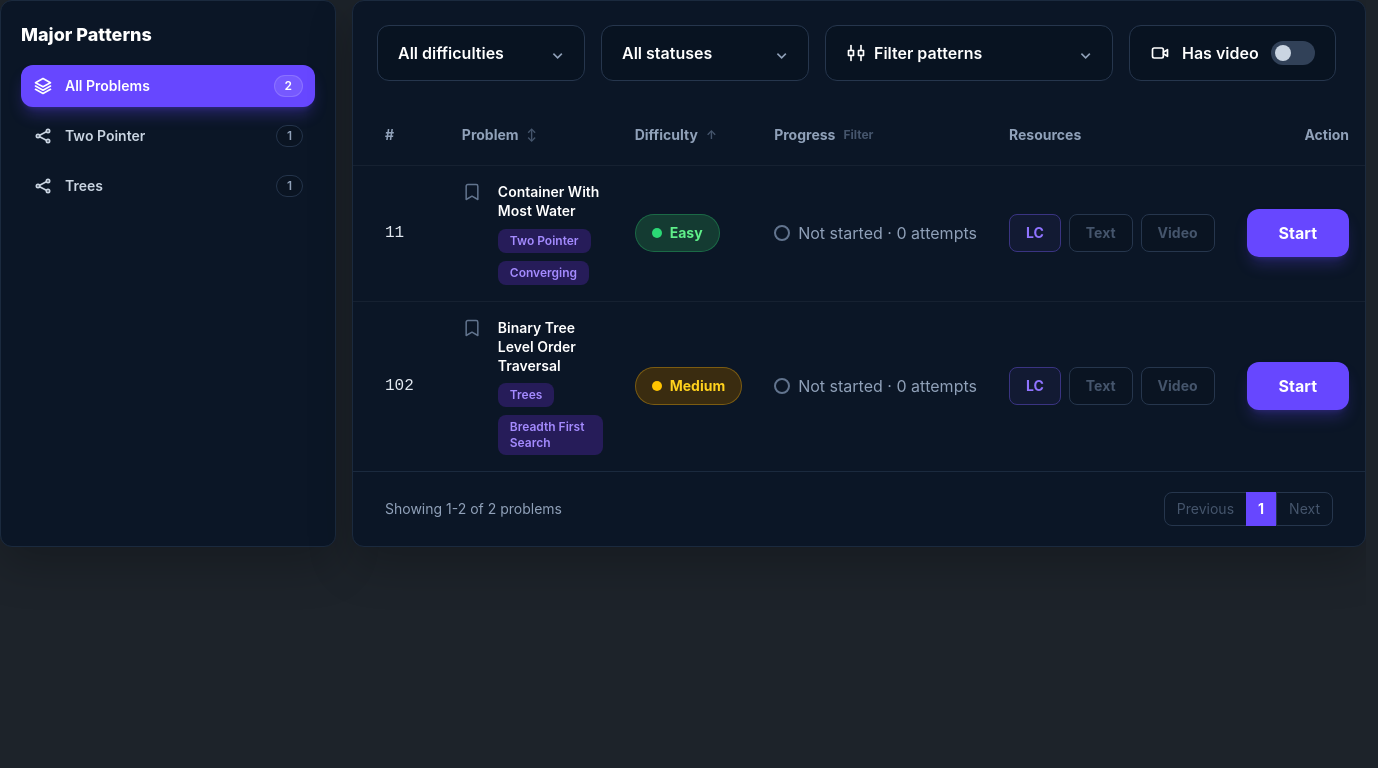
Scenario: LeetcodePracticeProgressClient › selects major patterns without navigating the document
This screenshot has width=1378, height=768.
Expected: the row "Container With Most Water" is shown, [353, 166, 1365, 302]
Expected: the row "Binary Tree Level Order Traversal" is shown, [353, 302, 1365, 471]
Click the button "Trees 1" at (84, 186), box [21, 165, 315, 207]
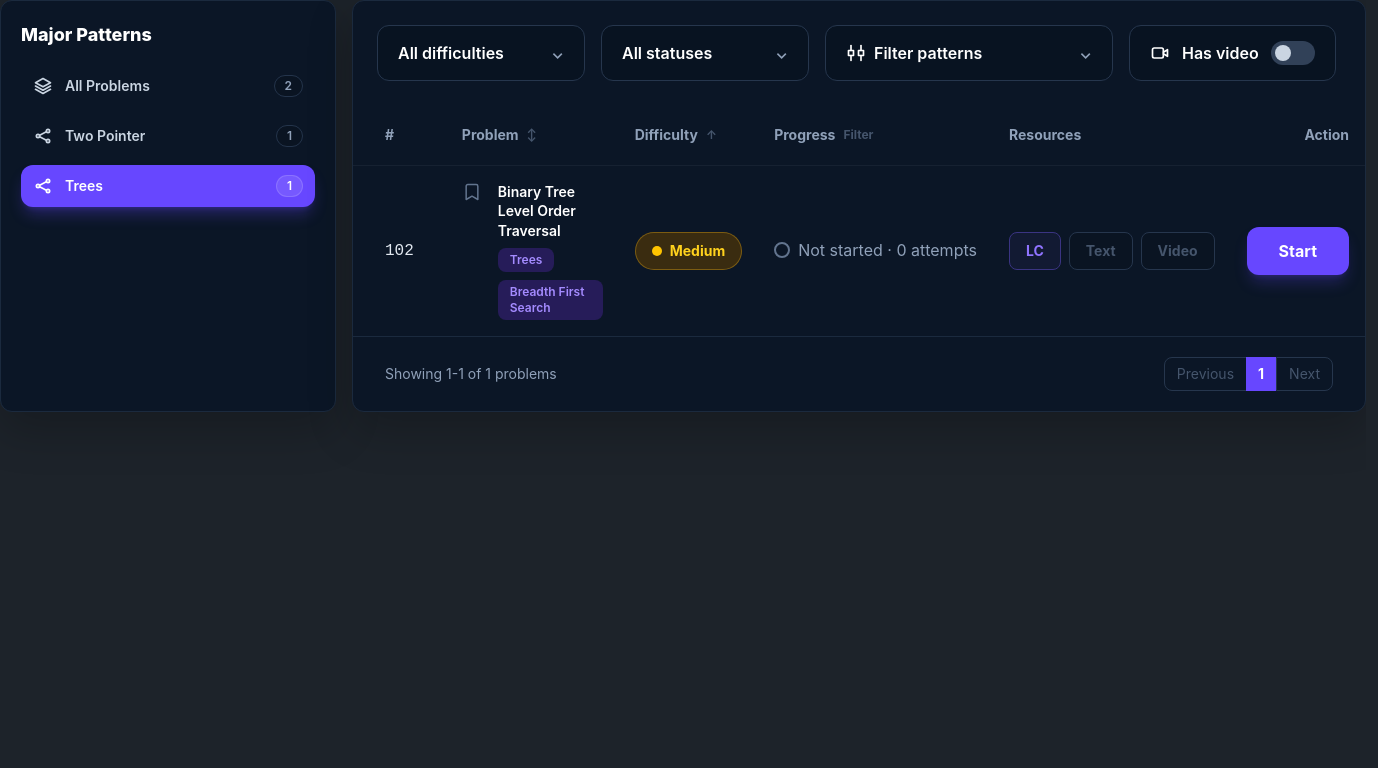
Expected: the row "Binary Tree Level Order Traversal" is shown, [353, 166, 1365, 336]
Result: the text "Container With Most Water" is gone
